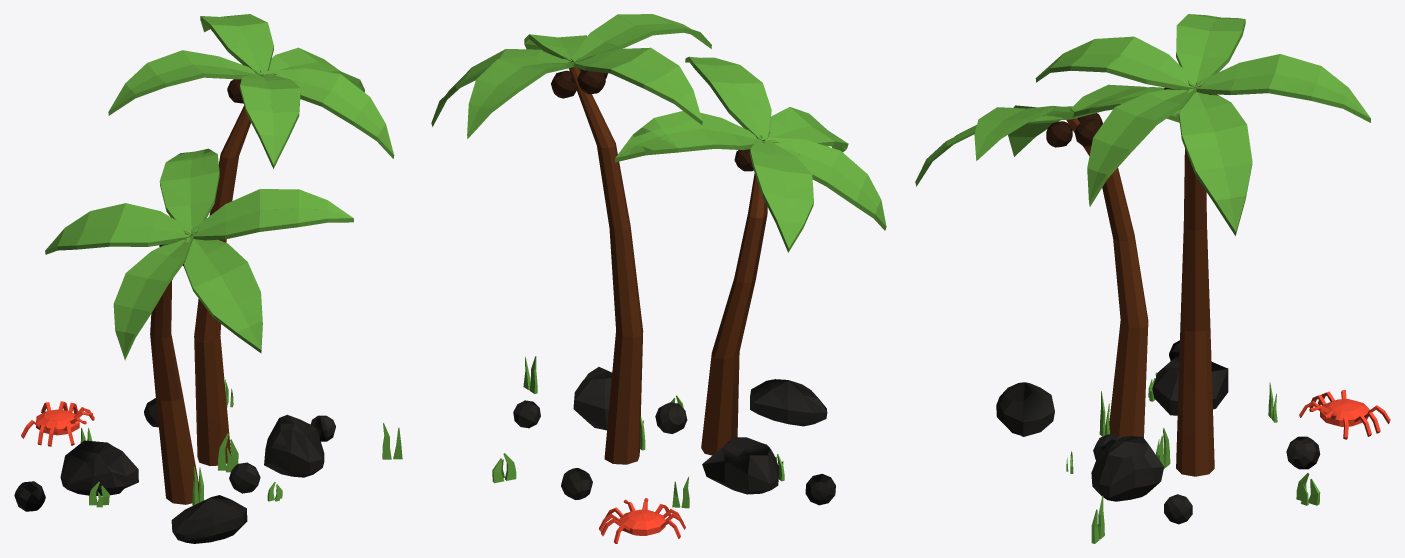
Rendered from beach_item.obj.
3 views of the same model, side by side, from view 1: azimuth 30°, elevation 25°; view 2: azimuth 150°, elevation 25°; view 3: azimuth 270°, elevation 25° (orthographic). The views are drawn at different scales.
Parts seen in each view (by area): view 1: Cube.001; view 2: Cube.001; view 3: Cube.001.
Boxes of the visible parts, x1,y1,x2,y2 form: Cube.001: (14,14,402,543); Cube.001: (431,14,886,543); Cube.001: (915,14,1390,543).
Bounding box in the file's own units: 17.75 × 18.38 × 18.15.
Materials: 1 (1 with a texture image).
